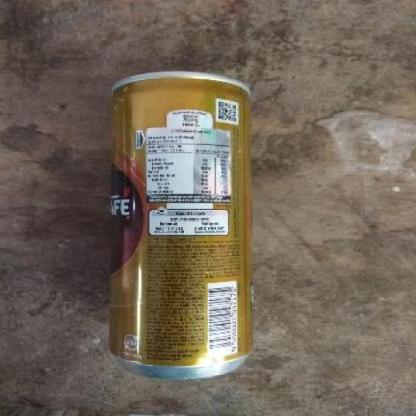alumunium_can: (106, 65, 254, 379)
